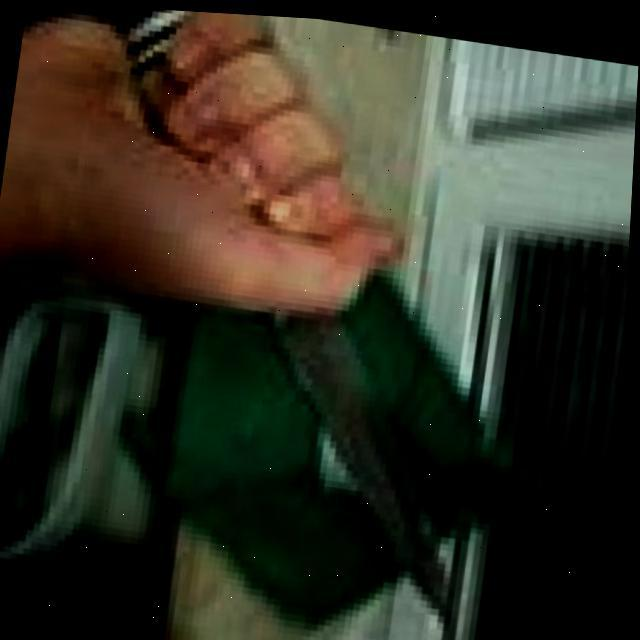knife: (50, 4, 527, 616)
